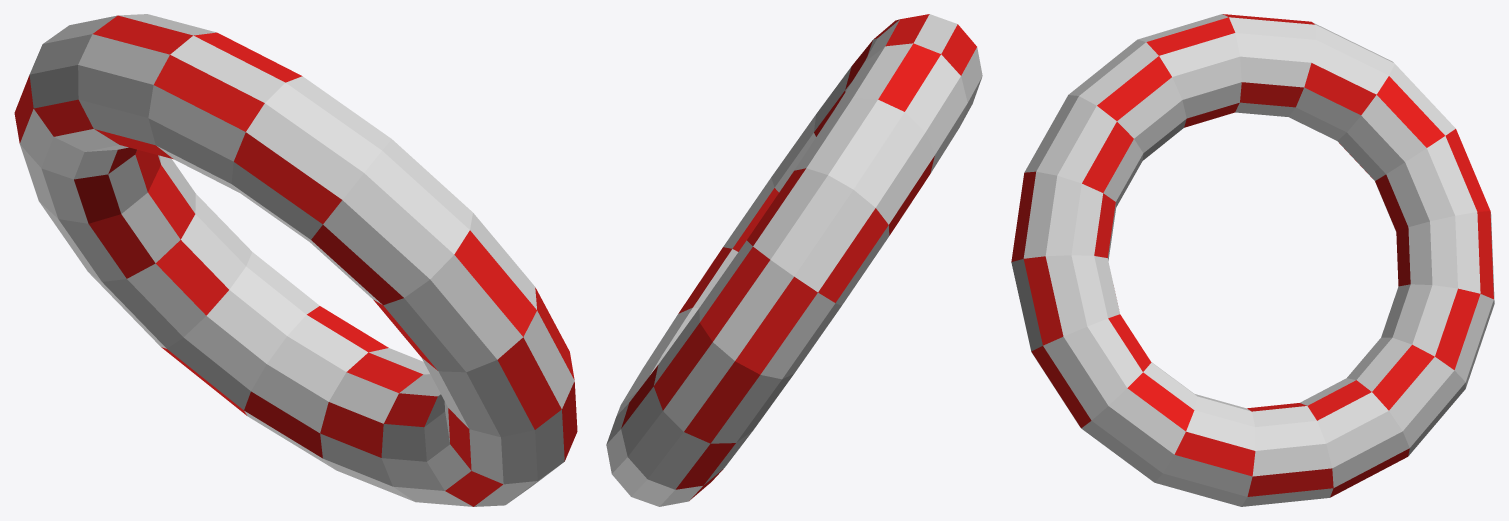
3 renders of one model, left to right at view 1: azimuth 30°, elevation 25°; view 2: azimuth 150°, elevation 25°; view 3: azimuth 270°, elevation 25°, orthographic. The views are drawn at different scales.
Parts seen in each view (by area): view 1: Torus.001; view 2: Torus.001; view 3: Torus.001.
Part boxes in pixels (<box>): Torus.001: <box>14,14,577,506</box>; Torus.001: <box>606,14,982,506</box>; Torus.001: <box>1011,14,1494,506</box>.
Size of the model in its own units: 0.7349 by 0.9756 by 1.08.
